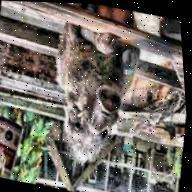boar: (30, 2, 152, 172)
